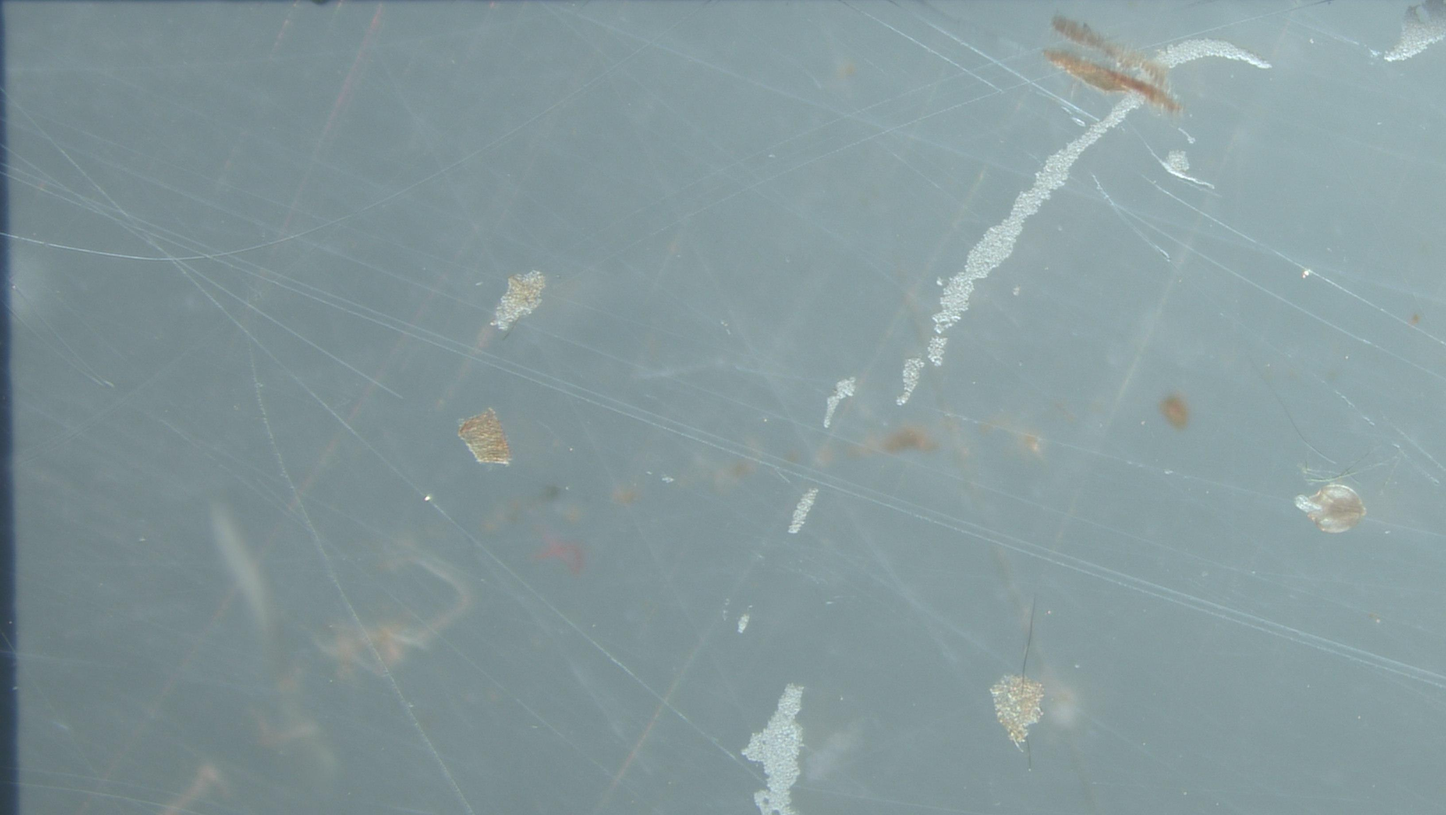live: (1296, 484, 1366, 534)
